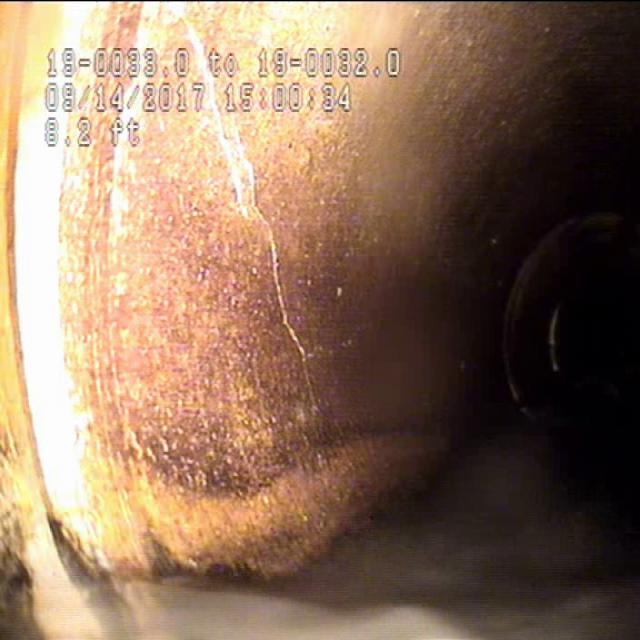Crack: (215, 131, 317, 372)
